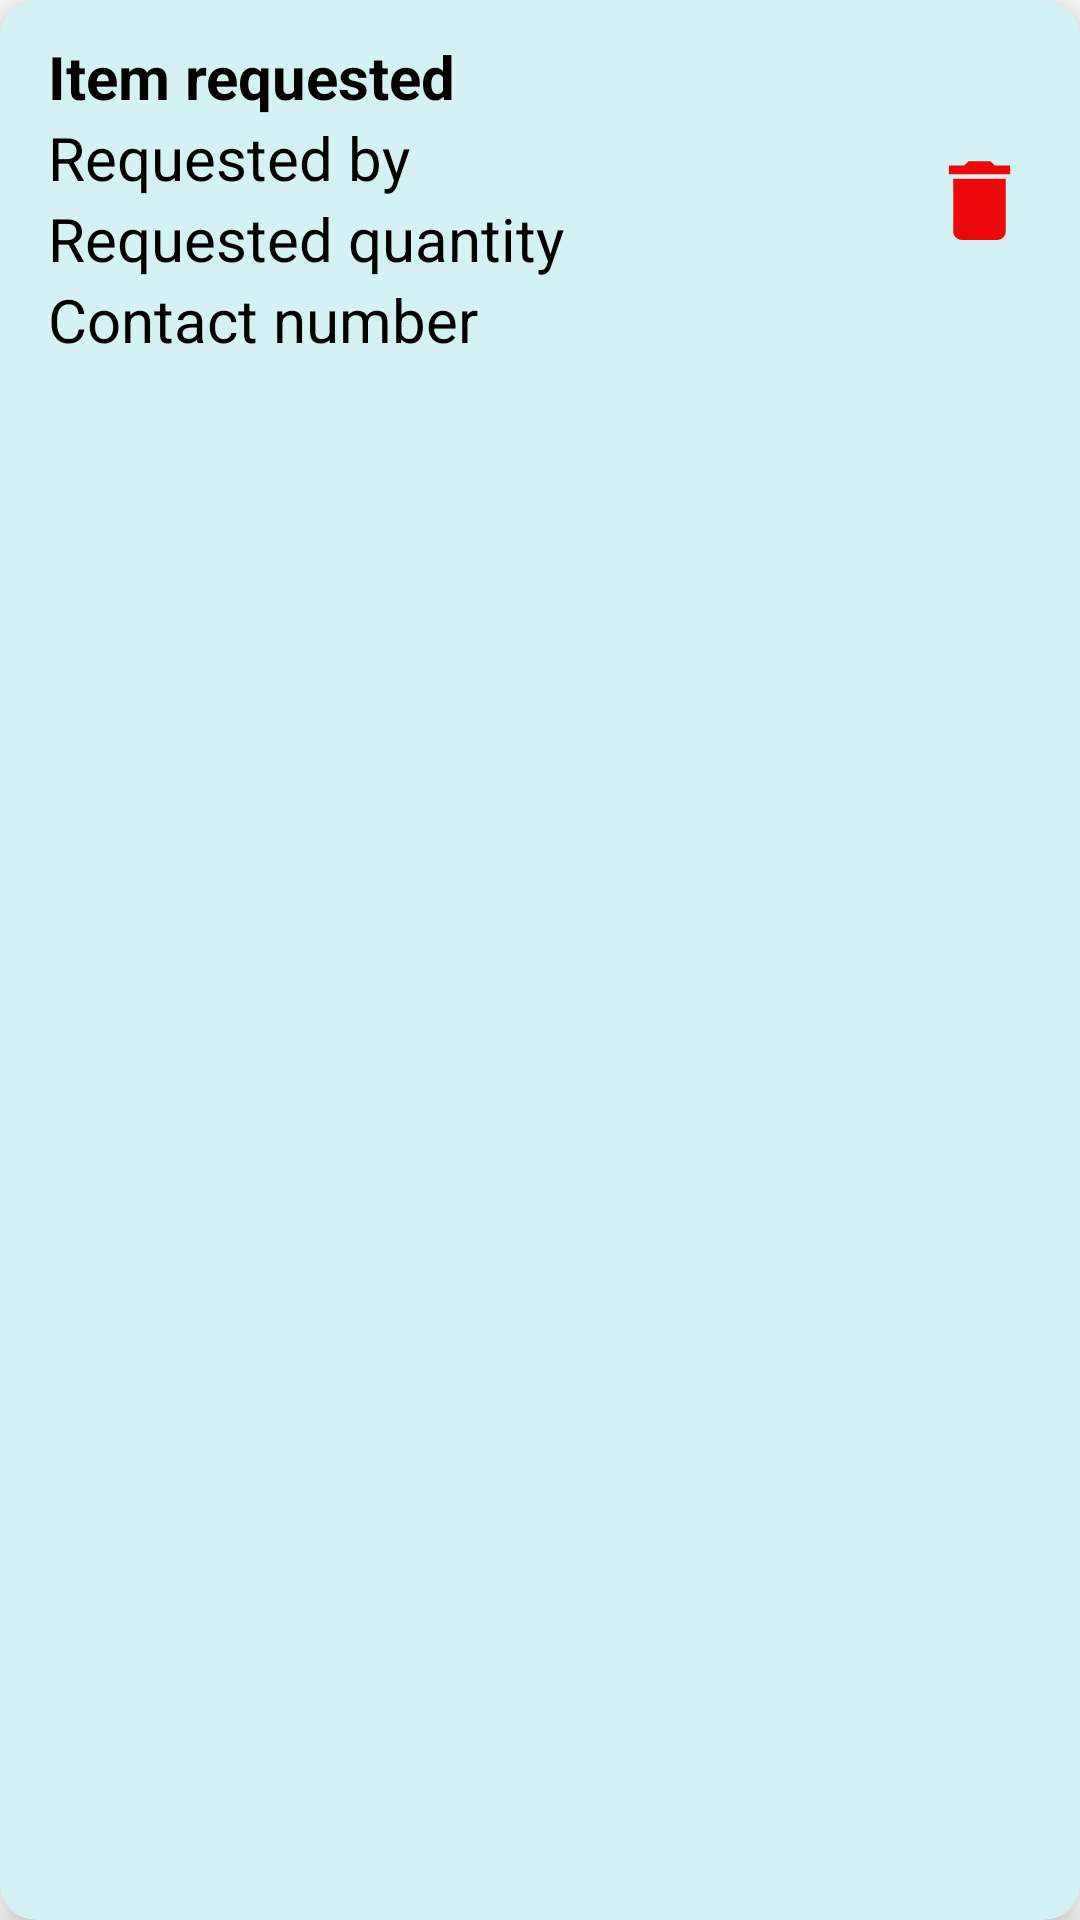

Icon bounding boxes for this 1080x1920 phone screenshot, format bbox(x1, y1, x2, y2):
delete: bbox(948, 161, 1011, 240)
